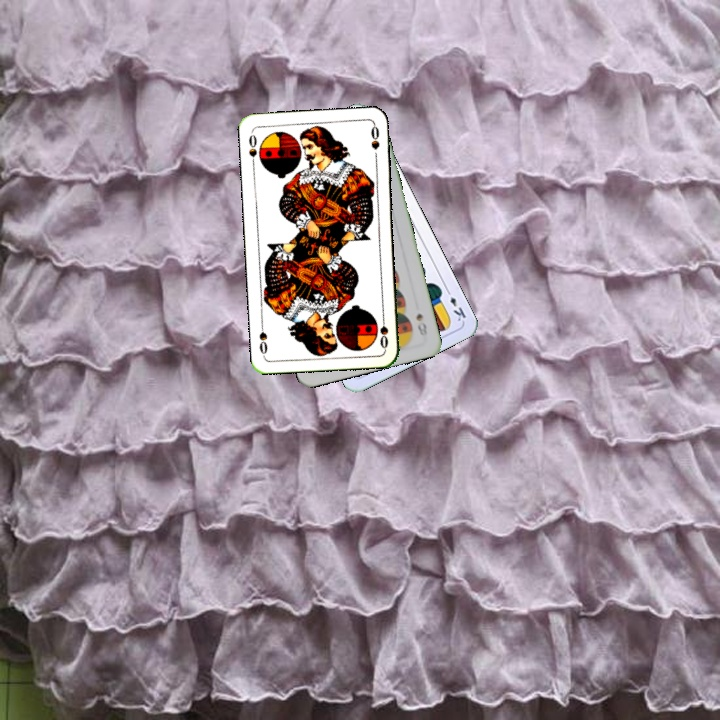EK: (442, 285, 468, 324)
S8: (412, 309, 430, 339)
SO: (376, 310, 391, 351), (245, 129, 260, 169)
